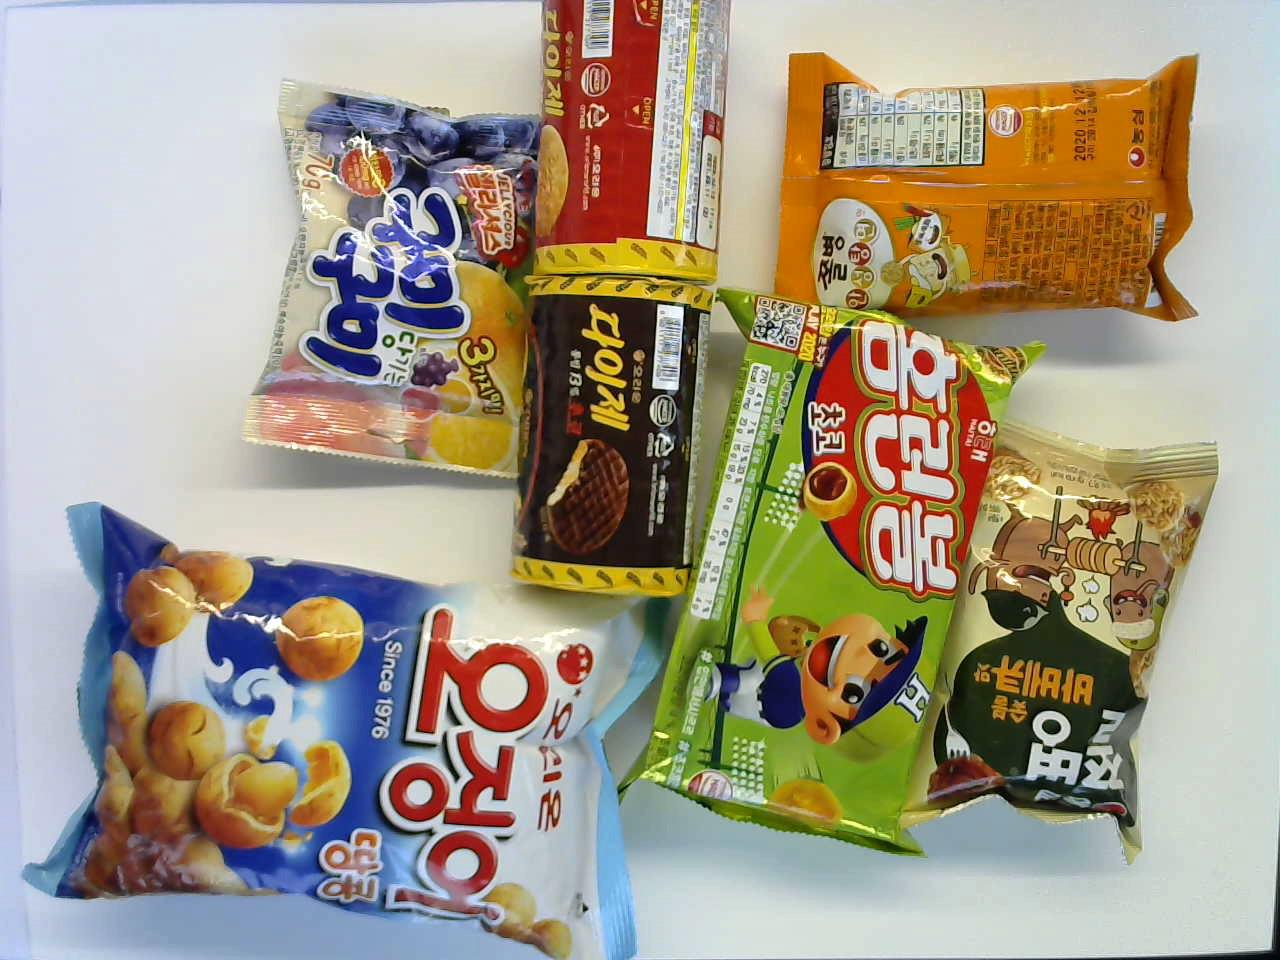diget_choco: (521, 276, 699, 596)
diget_ori: (535, 0, 725, 284)
gumi_gumi: (235, 78, 543, 490)
homerunball: (598, 287, 1051, 856)
jjolbyung_noodle: (770, 51, 1198, 328)
jjolbyung_ori: (899, 429, 1221, 863)
squid_peanut: (20, 503, 656, 959)
